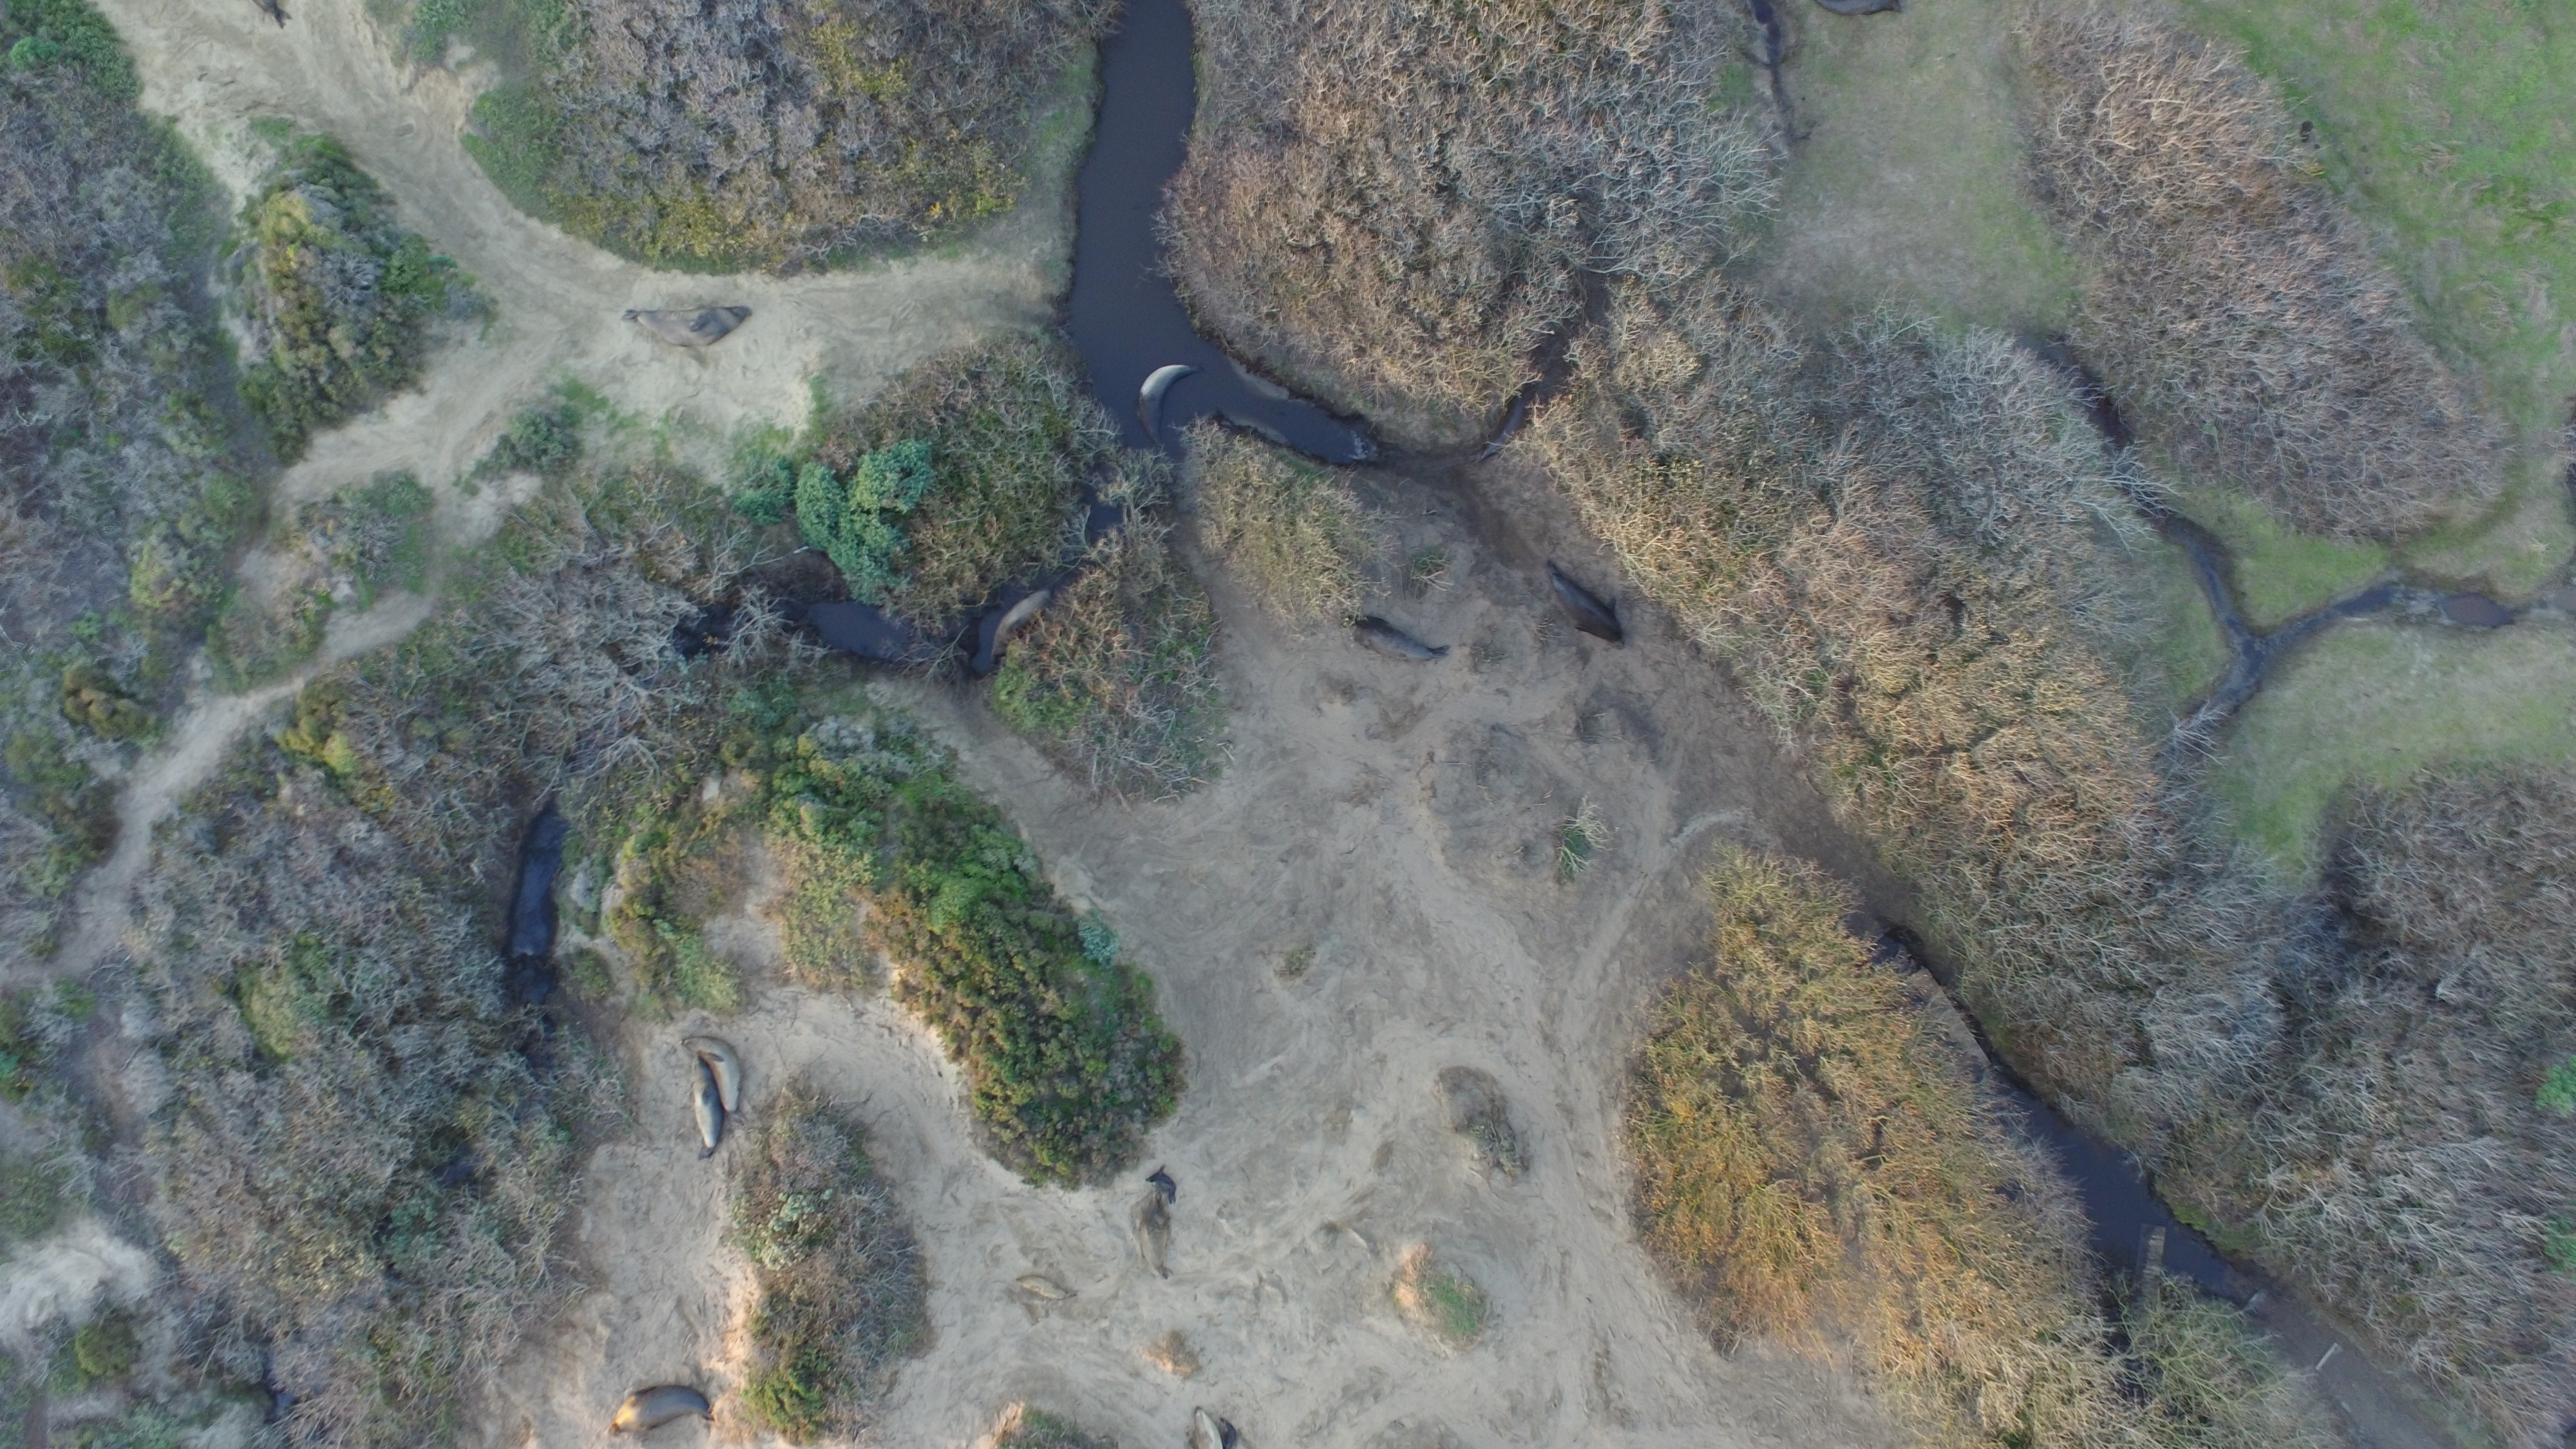Adult Female or Young Male: (1536, 564, 1629, 644), (1336, 612, 1454, 665), (596, 1384, 718, 1435), (678, 1035, 750, 1113), (1129, 361, 1196, 442), (980, 586, 1058, 653), (681, 1056, 732, 1148), (1182, 1407, 1228, 1449)
Adult Male: (616, 301, 759, 350)
Juvenile: (1131, 1196, 1177, 1277), (1010, 1272, 1077, 1302)
Pup: (1141, 1168, 1189, 1203), (1214, 1414, 1247, 1449)
